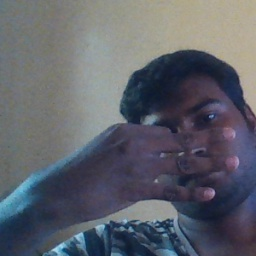K: (65, 120, 241, 222)
